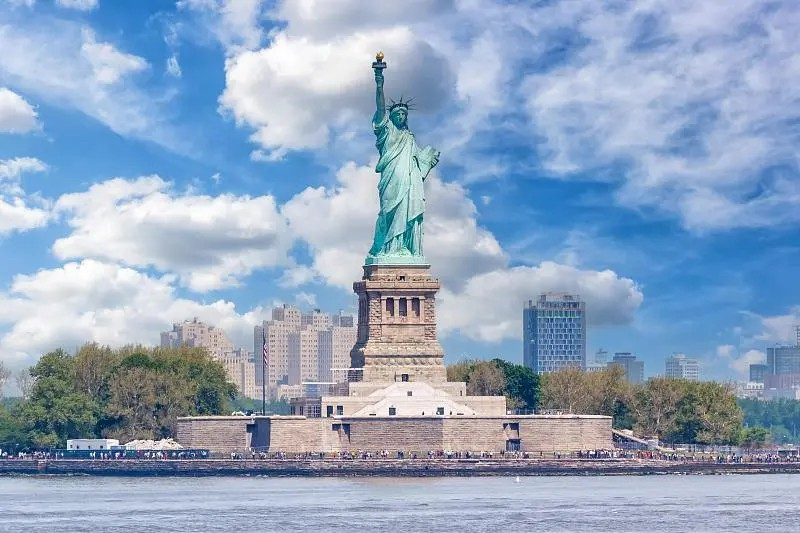SL: (346, 51, 448, 381)
